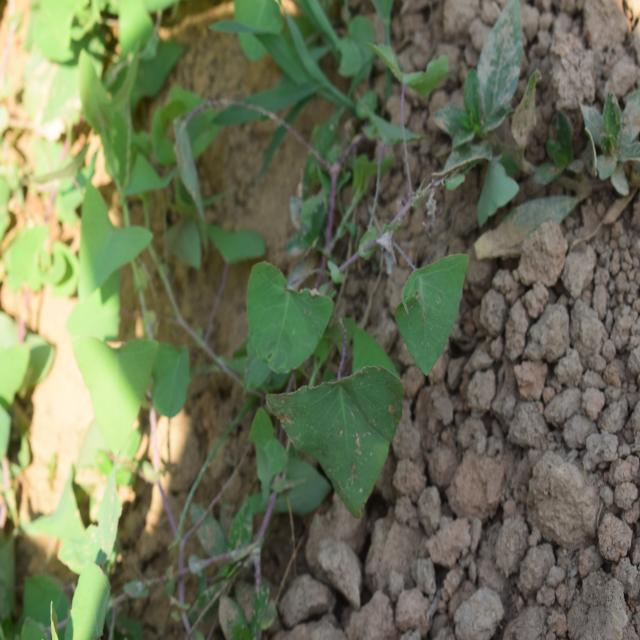Asiatic_Smartweed: (235, 235, 404, 513), (57, 180, 206, 443), (388, 242, 474, 372)
